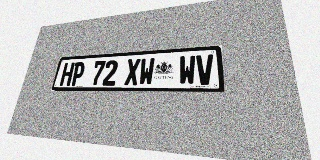2: (102, 60, 118, 86)
7: (90, 61, 106, 86)
H: (59, 62, 75, 86)
P: (70, 62, 86, 86)
V: (196, 54, 214, 85)
W: (179, 55, 195, 85), (138, 58, 155, 85)
X: (124, 58, 141, 85)
